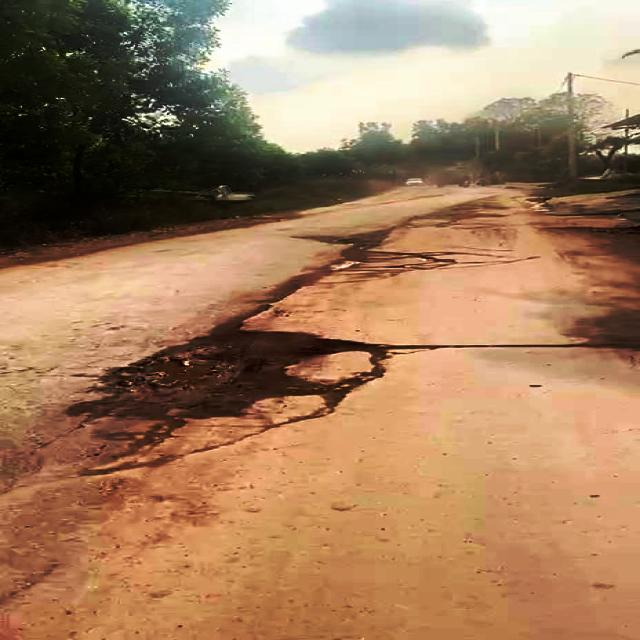pothole: (69, 315, 397, 434)
